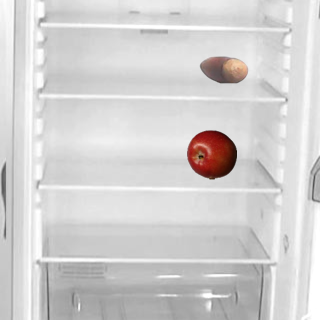Apple Braeburn: (186, 129, 236, 179)
Hazelnut: (198, 44, 248, 94)
